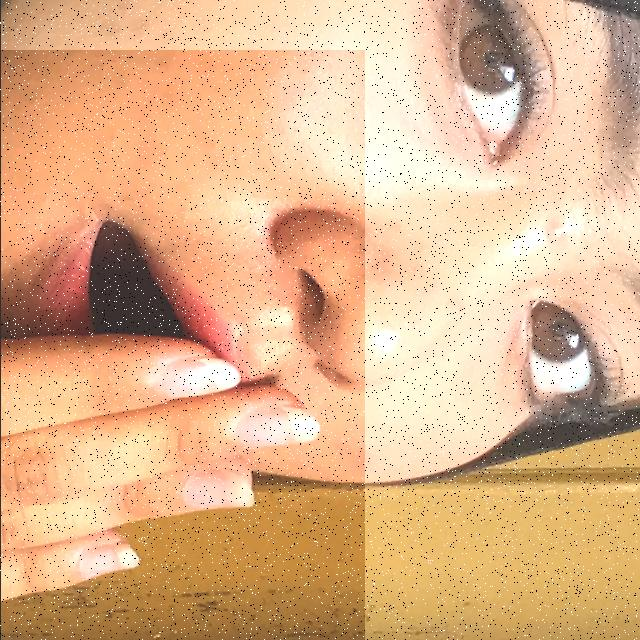ngantuk: (0, 50, 364, 640)
